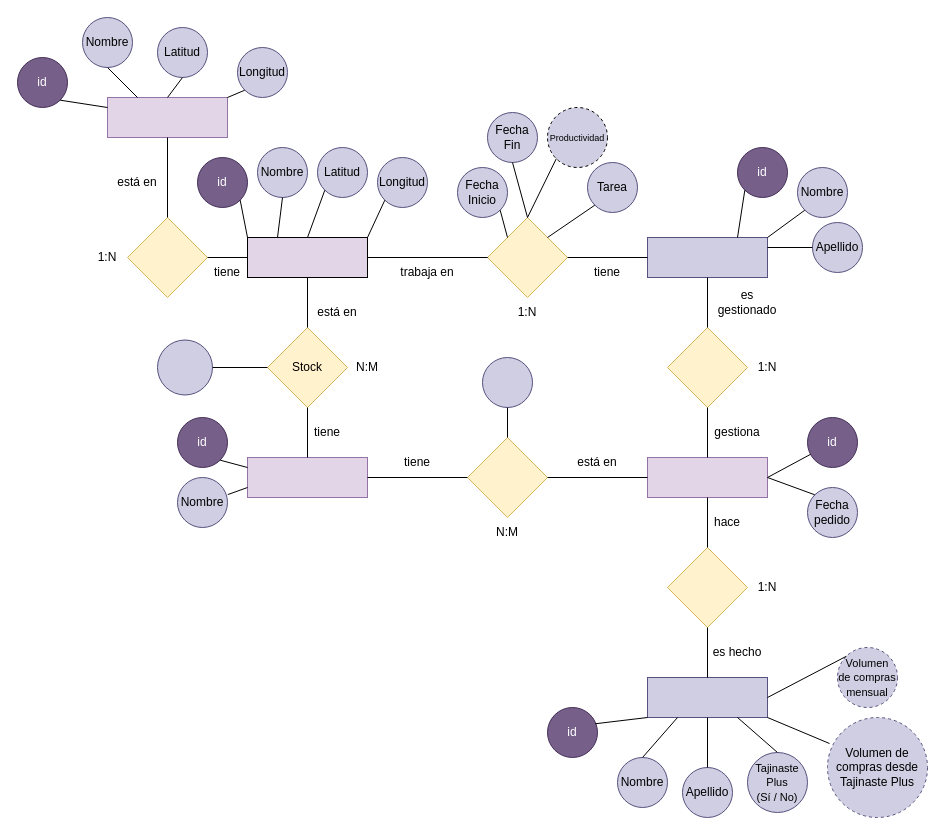
Image size: 945x835. Some labels were removed from this diagram. The centre of each missing label's shape, as x and y in pixels:
Cantidad: the point at 507,382
Cantidad de producto: the point at 184,367
Cliente: the point at 707,697
Empleado: the point at 707,257
Pedido: the point at 707,477
Producto: the point at 307,477
Puesto (Historial): the point at 527,257
Vivero: the point at 167,117
Zona: the point at 307,257
